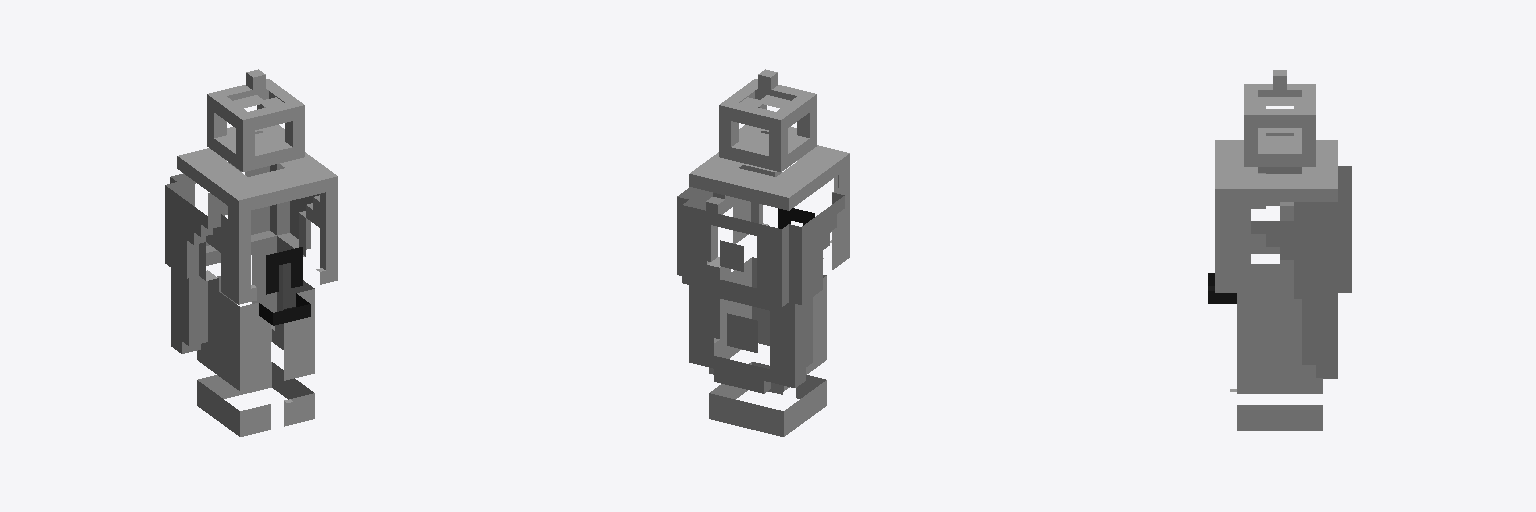
The picture shows the model from 3 angles: view 1: azimuth 30°, elevation 25°; view 2: azimuth 150°, elevation 25°; view 3: azimuth 270°, elevation 25°; orthographic projection.
Parts seen in each view (by area): view 1: object 1; view 2: object 1; view 3: object 1.
Boxes of the visible parts, x1,y1,x2,y2 form: object 1: [165, 69, 337, 436]; object 1: [677, 69, 849, 436]; object 1: [1208, 70, 1351, 430].
Size of the model in its own units: 2.4 by 5.6 by 2.4.
1 materials, 1 textured.